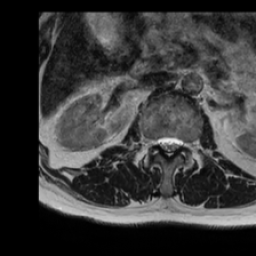CCS_normal: (165, 130, 173, 164)
LFS_stenosis: (181, 133, 188, 156)
LLS_normal: (173, 130, 181, 153)
RFS_stenosis: (148, 132, 157, 152)
RLS_normal: (157, 130, 165, 157)
